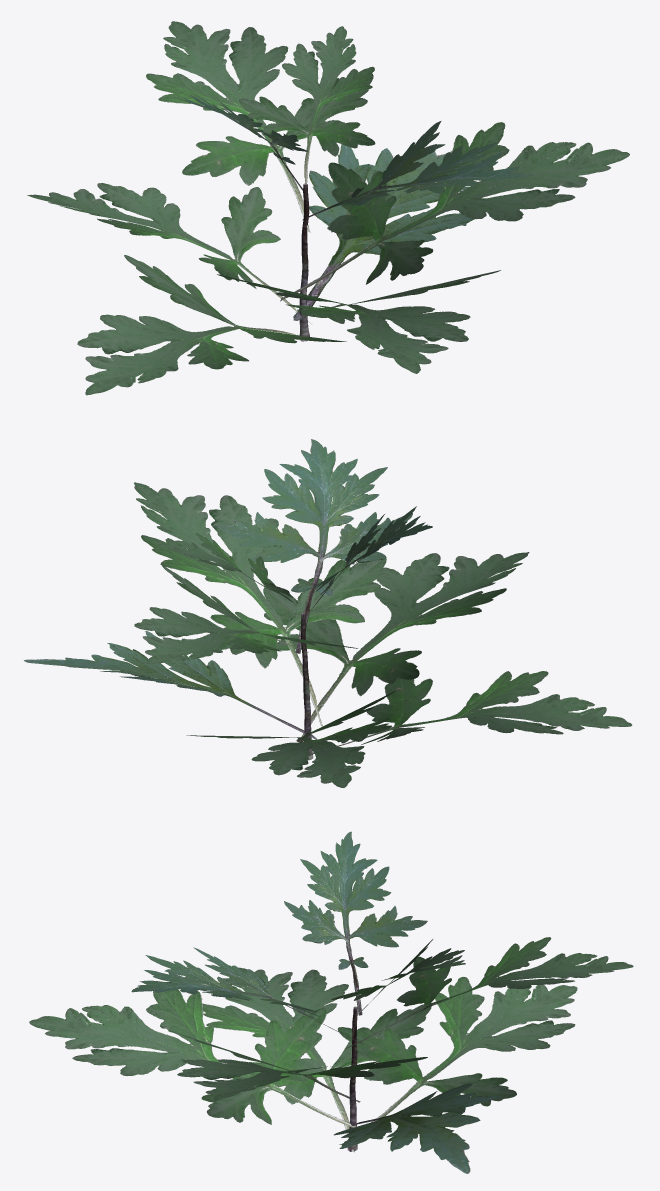
Rendered from Korean Mugwort_Type 01.fbx.
The picture shows the model from 3 angles, top to bottom: view 1: azimuth 30°, elevation 25°; view 2: azimuth 150°, elevation 25°; view 3: azimuth 270°, elevation 25°; orthographic projection. The views are drawn at different scales.
Visible parts, largest first — view 1: Korean Mugwort_Type 01; view 2: Korean Mugwort_Type 01; view 3: Korean Mugwort_Type 01.
Part boxes in pixels (x1=…): Korean Mugwort_Type 01: x1=27, y1=21, x2=629, y2=395; Korean Mugwort_Type 01: x1=24, y1=439, x2=632, y2=787; Korean Mugwort_Type 01: x1=29, y1=831, x2=633, y2=1173.
Bounding box in the file's own units: 17.79 × 8.56 × 18.56.
